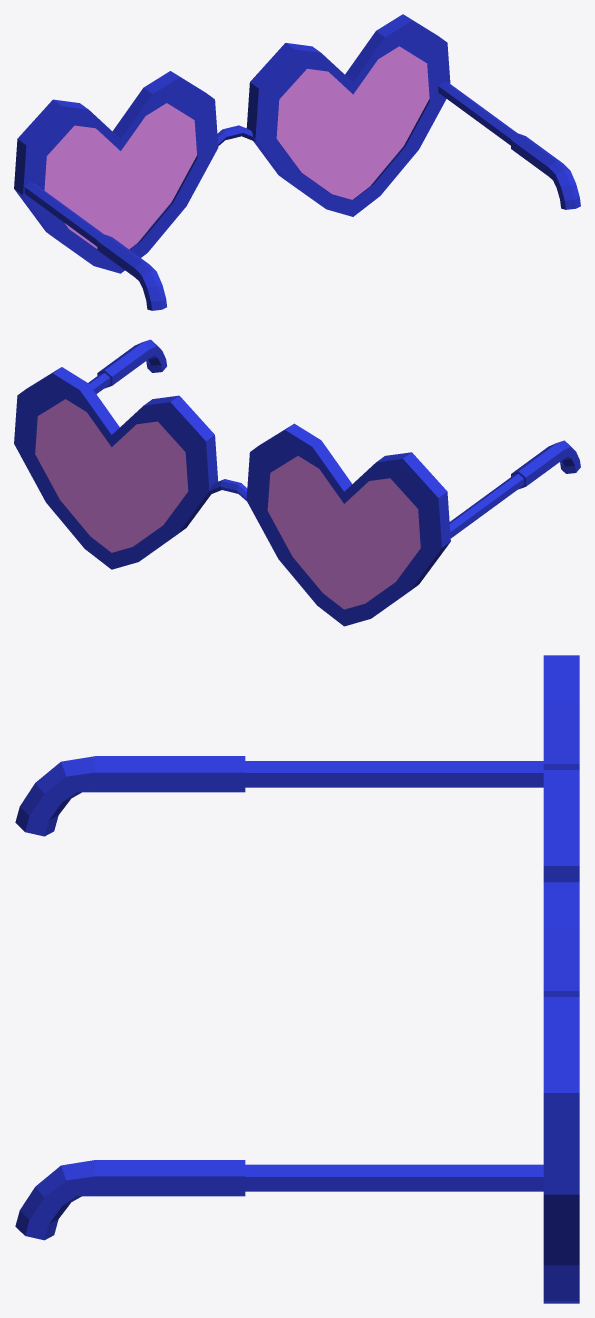
Rendered from heart_glasses.fbx.
3 views of the same model, one above another, from view 1: azimuth 30°, elevation 25°; view 2: azimuth 150°, elevation 25°; view 3: azimuth 270°, elevation 25° (orthographic). The views are drawn at different scales.
Visible parts, largest first — view 1: heart_glasses; view 2: heart_glasses; view 3: heart_glasses.
Part boxes in pixels (box(x1,y1,x2,y2)): heart_glasses: box(14, 14, 580, 310); heart_glasses: box(14, 339, 580, 626); heart_glasses: box(15, 655, 579, 1303).
Bounding box in the file's own units: 67.67 × 27.45 × 38.56.
